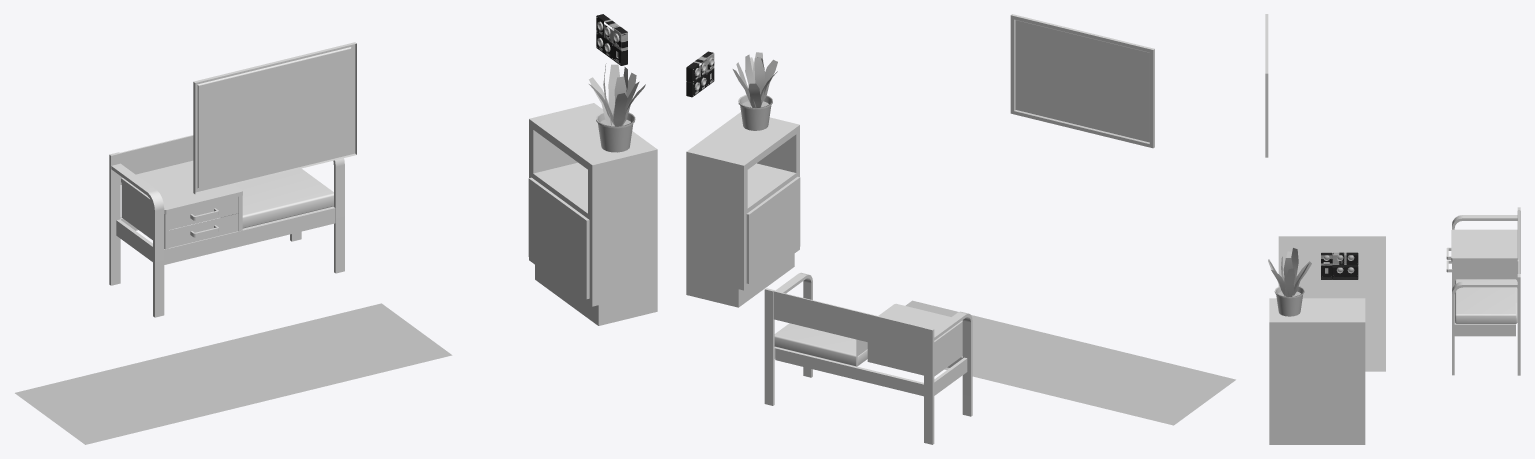
File: Hallroom.fbx
3 renders of one model, left to right at view 1: azimuth 30°, elevation 25°; view 2: azimuth 150°, elevation 25°; view 3: azimuth 270°, elevation 25°, orthographic. The views are drawn at different scales.
Visible parts, largest first — view 1: apartments_carpet, apartments_wardrobe, apartments_painting, apartments_halltable, apartments_halltable_pillow, apartments_plant, apartments_plantpot, apartments_fusetable; view 2: apartments_wardrobe, apartments_carpet, apartments_halltable, apartments_painting, apartments_halltable_pillow, apartments_plant, apartments_plantpot, apartments_fusetable; view 3: apartments_wardrobe, apartments_carpet, apartments_halltable, apartments_halltable_pillow, apartments_plant, apartments_fusetable, apartments_plantpot, apartments_painting.
Part boxes in pixels (<box>): apartments_carpet: <box>15,303,452,444</box>; apartments_wardrobe: <box>528,103,657,325</box>; apartments_painting: <box>193,42,356,194</box>; apartments_halltable: <box>109,135,344,317</box>; apartments_halltable_pillow: <box>235,168,333,228</box>; apartments_plant: <box>589,63,645,126</box>; apartments_plantpot: <box>596,112,635,152</box>; apartments_fusetable: <box>596,14,627,65</box>; apartments_wardrobe: <box>686,112,800,307</box>; apartments_carpet: <box>905,300,1235,425</box>; apartments_halltable: <box>764,272,972,444</box>; apartments_painting: <box>1010,14,1154,148</box>; apartments_halltable_pillow: <box>774,323,867,366</box>; apartments_plant: <box>732,52,777,107</box>; apartments_plantpot: <box>738,95,772,130</box>; apartments_fusetable: <box>686,51,714,97</box>; apartments_wardrobe: <box>1269,298,1365,444</box>; apartments_carpet: <box>1278,236,1385,371</box>; apartments_halltable: <box>1446,207,1520,375</box>; apartments_halltable_pillow: <box>1455,279,1517,323</box>; apartments_plant: <box>1268,248,1311,296</box>; apartments_fusetable: <box>1321,252,1358,279</box>; apartments_plantpot: <box>1274,286,1304,316</box>; apartments_painting: <box>1265,14,1268,157</box>.
Size of the model in its own units: 368 by 213 by 189.
